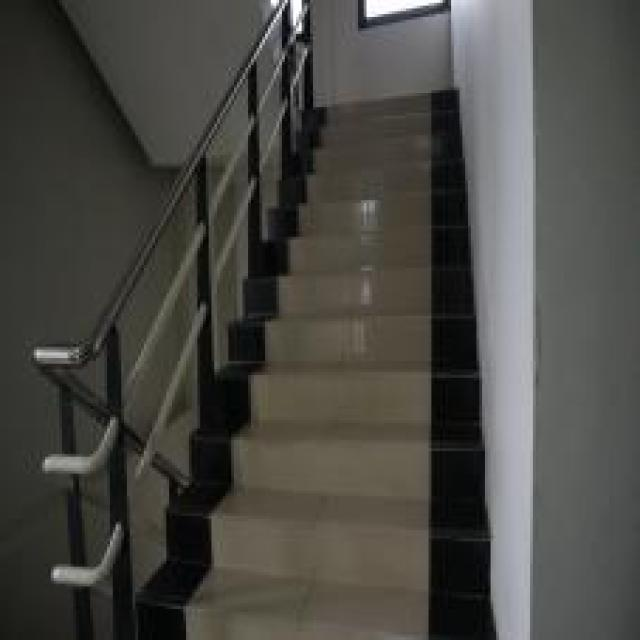upstair: (306, 74, 495, 638)
